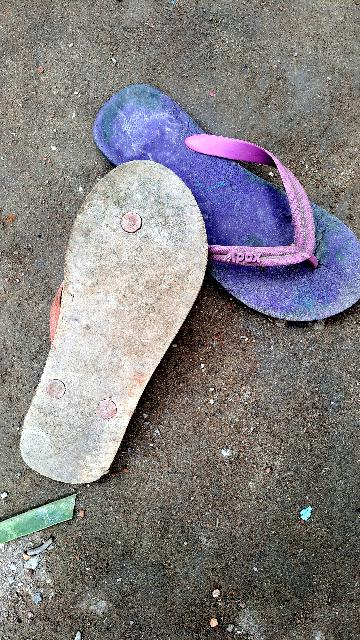sandal: (0, 170, 226, 507), (85, 69, 360, 334)
